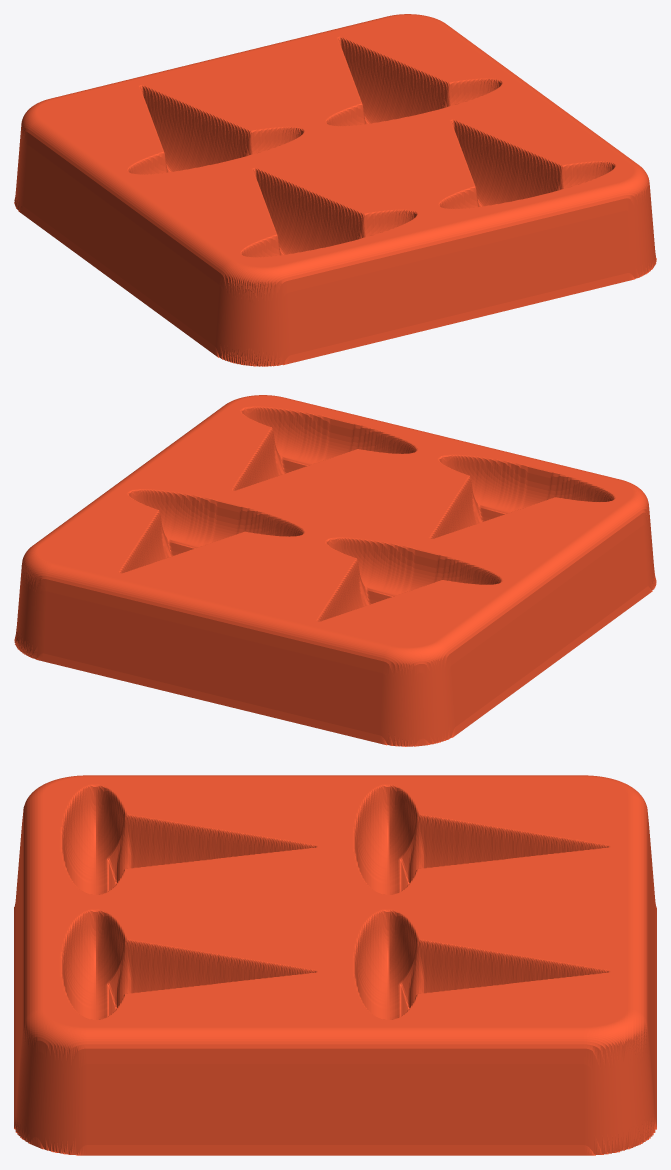
Rendered from mold.glb.
3 views of the same model, one above another, from view 1: azimuth 30°, elevation 25°; view 2: azimuth 150°, elevation 25°; view 3: azimuth 270°, elevation 25° (orthographic). The views are drawn at different scales.
Visible parts, largest first — view 1: geometry_0; view 2: geometry_0; view 3: geometry_0.
Boxes of the visible parts, x1,y1,x2,y2 form: geometry_0: (14, 14, 656, 366); geometry_0: (14, 395, 656, 746); geometry_0: (14, 775, 656, 1155).
Size of the model in its own units: 0.0808 by 0.0159 by 0.08.
